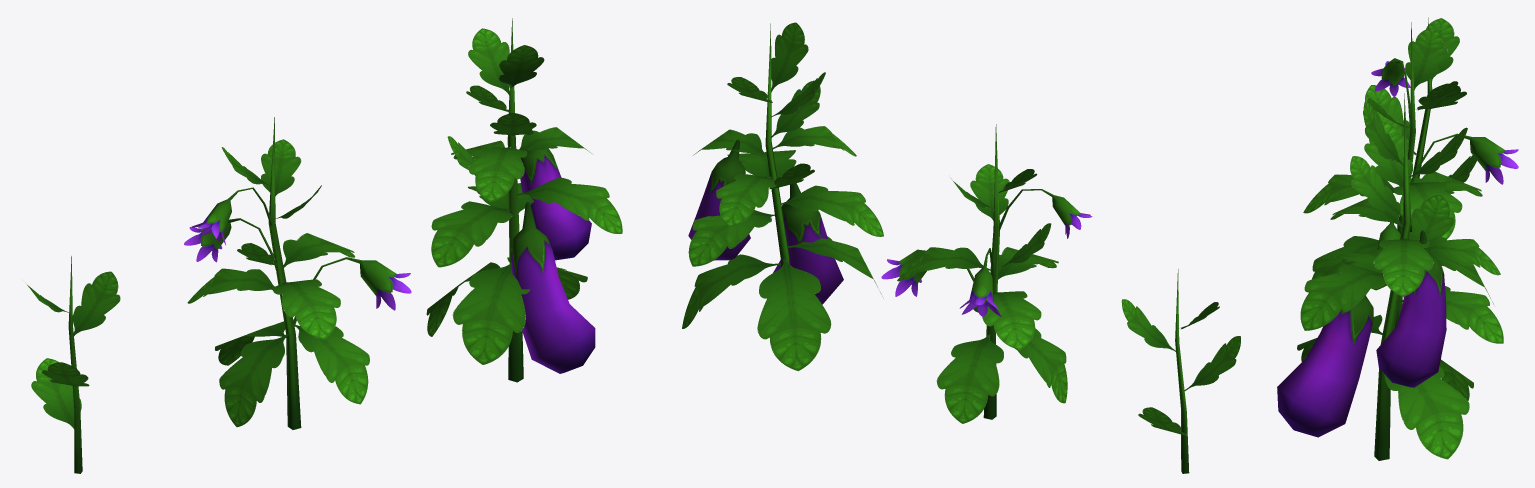
Rendered from EggPlant_Lv.FBX.
The picture shows the model from 3 angles, left to right: view 1: azimuth 30°, elevation 25°; view 2: azimuth 150°, elevation 25°; view 3: azimuth 270°, elevation 25°; orthographic projection. The views are drawn at different scales.
Parts seen in each view (by area): view 1: EggPlant_Lv3, EggPlant_Lv2, EggPlant_Lv1; view 2: EggPlant_Lv3, EggPlant_Lv2, EggPlant_Lv1; view 3: EggPlant_Lv3, EggPlant_Lv2, EggPlant_Lv1.
Boxes of the visible parts, x1=… form: EggPlant_Lv3: x1=426, y1=18, x2=622, y2=382; EggPlant_Lv2: x1=184, y1=117, x2=411, y2=429; EggPlant_Lv1: x1=27, y1=256, x2=120, y2=473; EggPlant_Lv3: x1=682, y1=22, x2=883, y2=371; EggPlant_Lv2: x1=881, y1=124, x2=1092, y2=423; EggPlant_Lv1: x1=1121, y1=269, x2=1240, y2=473; EggPlant_Lv3: x1=1277, y1=93, x2=1503, y2=460; EggPlant_Lv2: x1=1303, y1=22, x2=1518, y2=327; EggPlant_Lv1: x1=1363, y1=17, x2=1476, y2=231.
Bounding box in the file's own units: 239 × 142 × 84.25.
